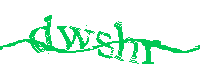d: (29, 15, 52, 53)
h: (115, 23, 138, 64)
r: (140, 40, 162, 65)
s: (96, 31, 114, 59)
w: (57, 24, 94, 52)
